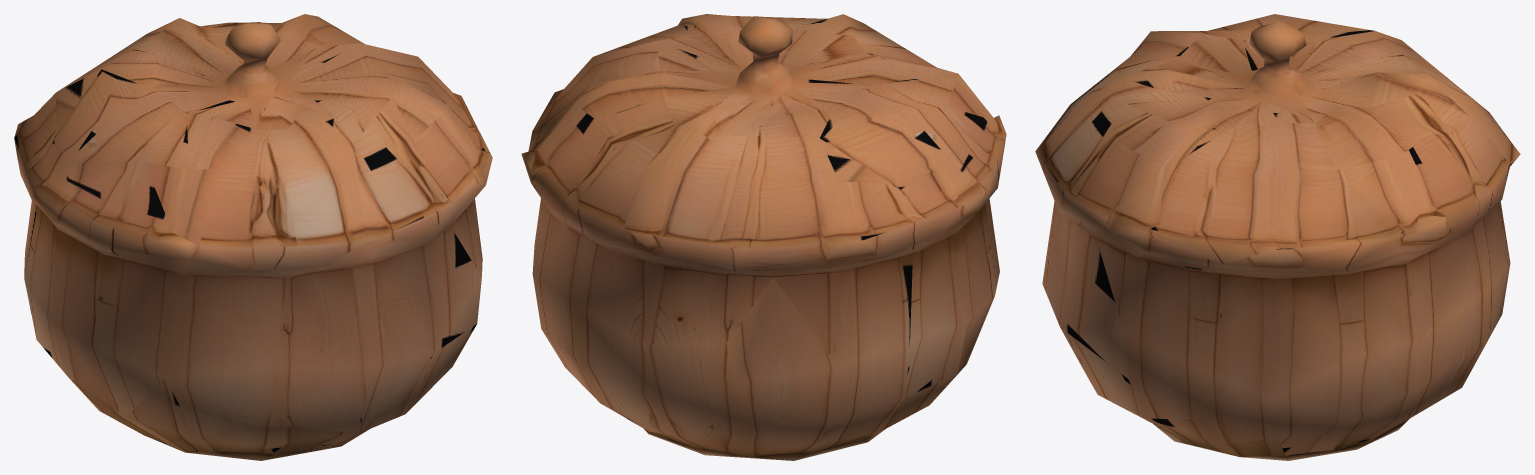
File: Storage Box 1.fbx
3 renders of one model, left to right at view 1: azimuth 30°, elevation 25°; view 2: azimuth 150°, elevation 25°; view 3: azimuth 270°, elevation 25°, orthographic.
Parts seen in each view (by area): view 1: Storage Box 1; view 2: Storage Box 1; view 3: Storage Box 1.
Boxes of the visible parts, x1,y1,x2,y2 form: Storage Box 1: (14, 14, 492, 460); Storage Box 1: (521, 14, 1006, 460); Storage Box 1: (1035, 14, 1520, 460).
Size of the model in its own units: 94.72 by 84.9 by 95.6.
Materials: 1 (1 with a texture image).
